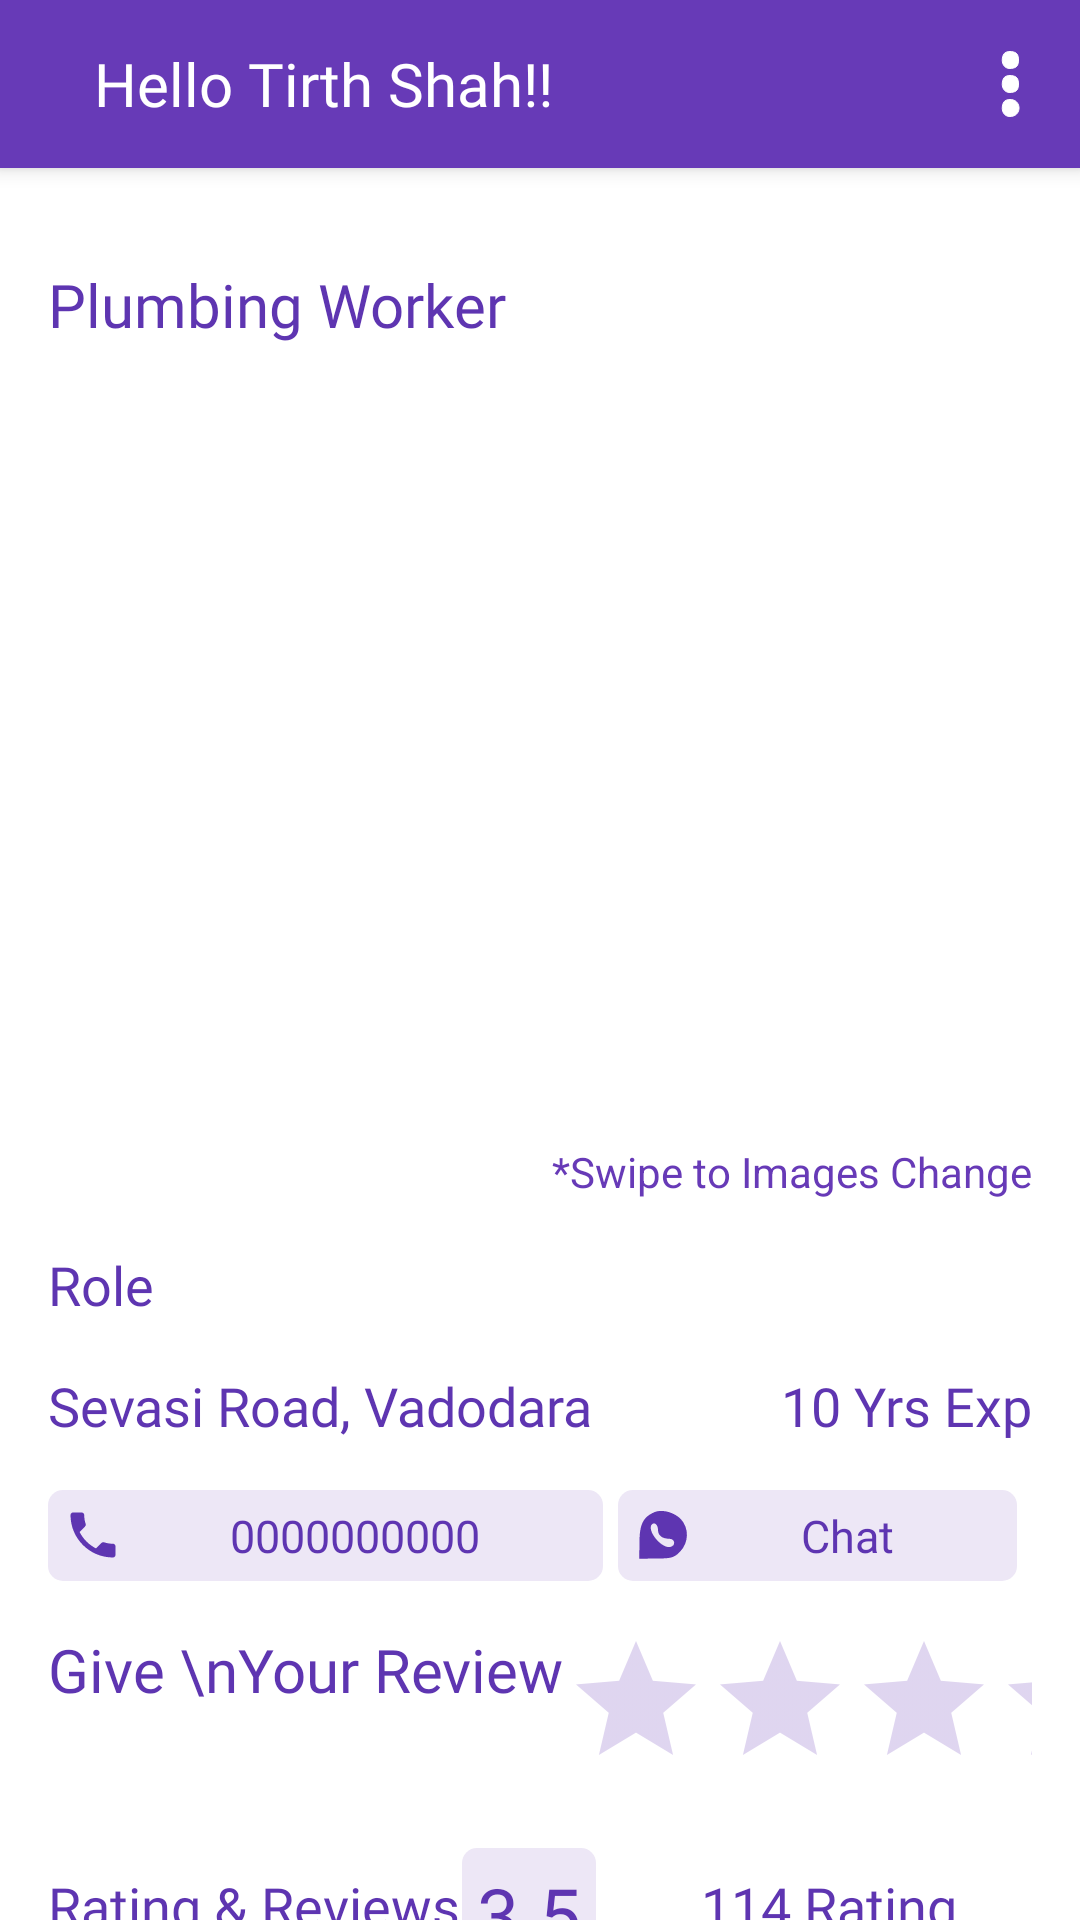

Icons on this 1080x1920 Android screen, each with the point to tap as (x,y):
menu: (1010,84)
